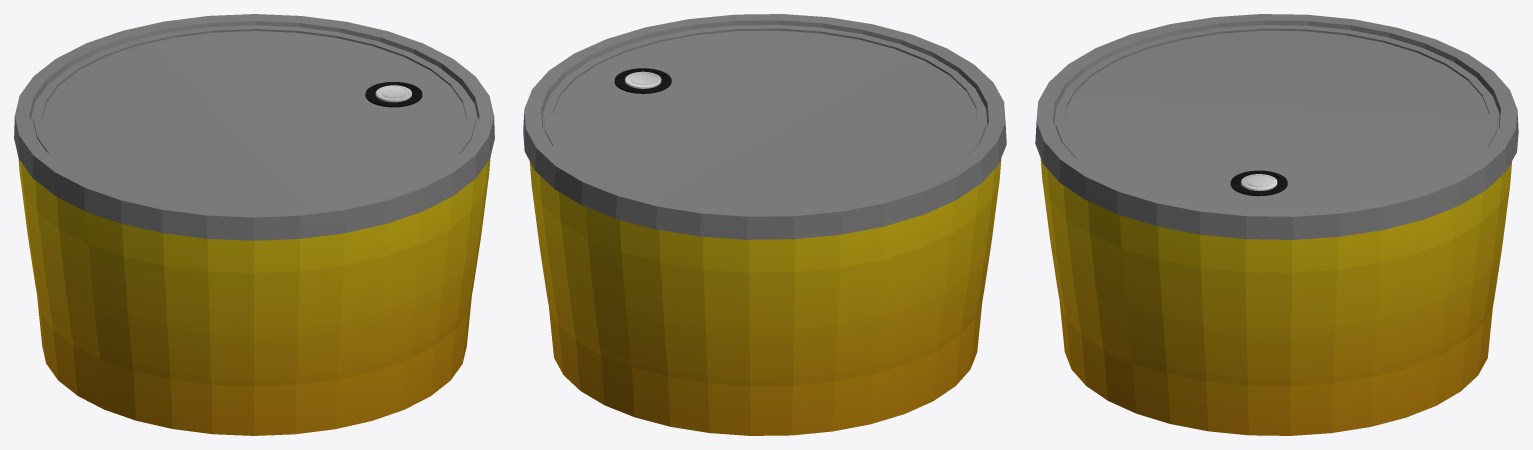
The model's file is Large Industrial Bucket Yellow.fbx.
The picture shows the model from 3 angles, left to right: view 1: azimuth 30°, elevation 25°; view 2: azimuth 150°, elevation 25°; view 3: azimuth 270°, elevation 25°; orthographic projection.
Parts seen in each view (by area): view 1: Large Industrial Bucket Yellow; view 2: Large Industrial Bucket Yellow; view 3: Large Industrial Bucket Yellow.
Part boxes in pixels (x1,y1,x2,y2): Large Industrial Bucket Yellow: [14, 14, 494, 435]; Large Industrial Bucket Yellow: [523, 14, 1006, 435]; Large Industrial Bucket Yellow: [1035, 14, 1518, 435].
Bounding box in the file's own units: 153 × 291 × 290.
Materials: 1 (1 with a texture image).
